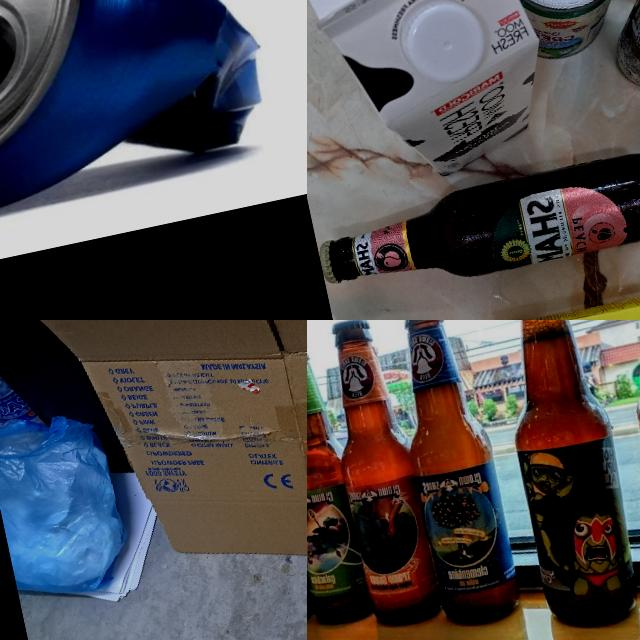caixinha: (307, 0, 562, 197)
garrafa de vidro: (473, 320, 640, 634), (311, 150, 640, 307), (375, 320, 527, 630), (314, 320, 445, 629), (307, 335, 375, 627), (590, 320, 640, 638)
lata: (0, 0, 282, 250), (484, 0, 640, 65)
papelão: (7, 320, 307, 640)
tampa plástica: (392, 0, 493, 90)
